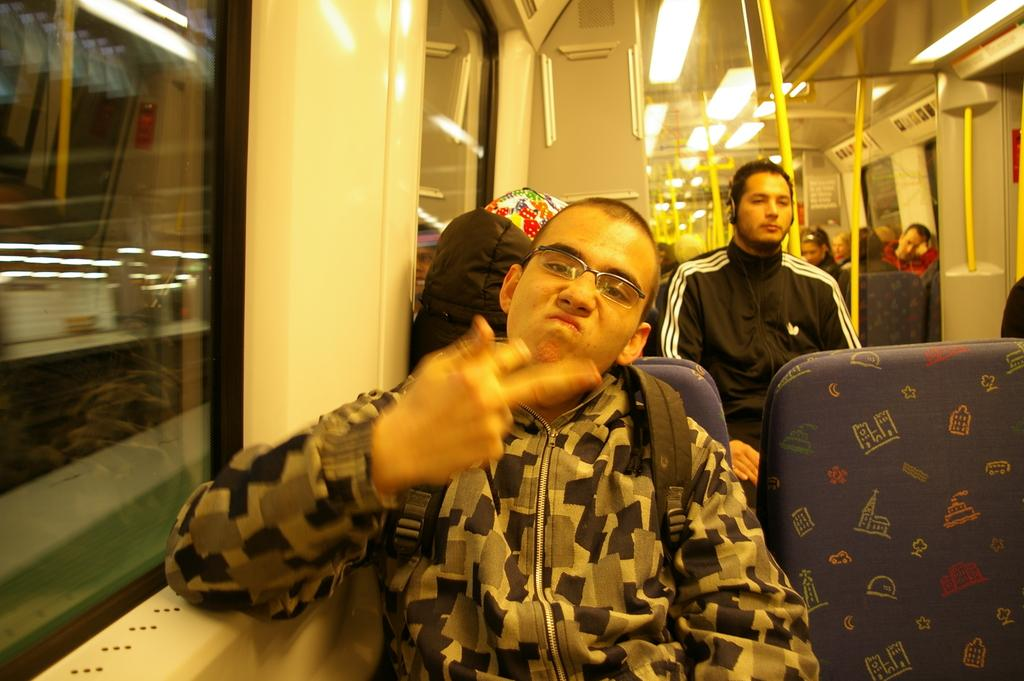Luggage-and-bags: (409, 209, 535, 368), (609, 359, 686, 550)
